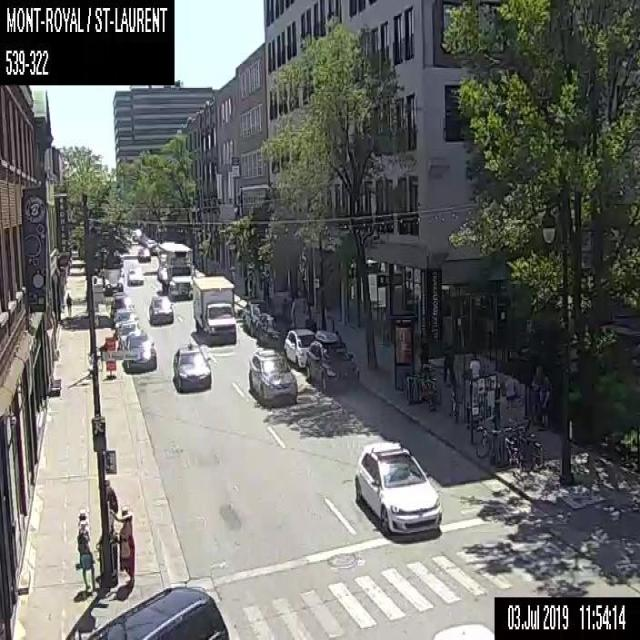construction: (104, 336, 115, 378)
pedestrian: (117, 506, 136, 587), (77, 530, 95, 591), (104, 476, 118, 534), (530, 367, 543, 425), (540, 375, 553, 430), (442, 341, 455, 383), (503, 372, 516, 414), (76, 508, 90, 538), (262, 269, 270, 299), (289, 296, 296, 325), (65, 292, 71, 316), (281, 296, 288, 316)
vehicle: (352, 438, 443, 534), (86, 582, 228, 638), (305, 330, 359, 390), (191, 275, 236, 343), (248, 348, 297, 403), (158, 241, 195, 299), (172, 343, 212, 392), (256, 311, 294, 350), (122, 332, 156, 370), (284, 328, 316, 368), (431, 618, 494, 638), (242, 300, 274, 335), (148, 295, 176, 323), (110, 292, 134, 320), (117, 320, 140, 348), (113, 307, 137, 329), (104, 269, 124, 294), (125, 264, 144, 284), (137, 247, 150, 260), (145, 239, 157, 248), (138, 233, 147, 245), (132, 228, 141, 240), (150, 244, 158, 255)
